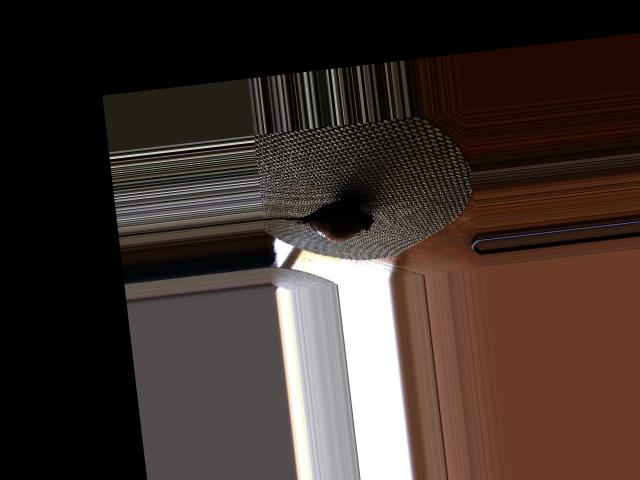beet: (263, 198, 375, 249)
